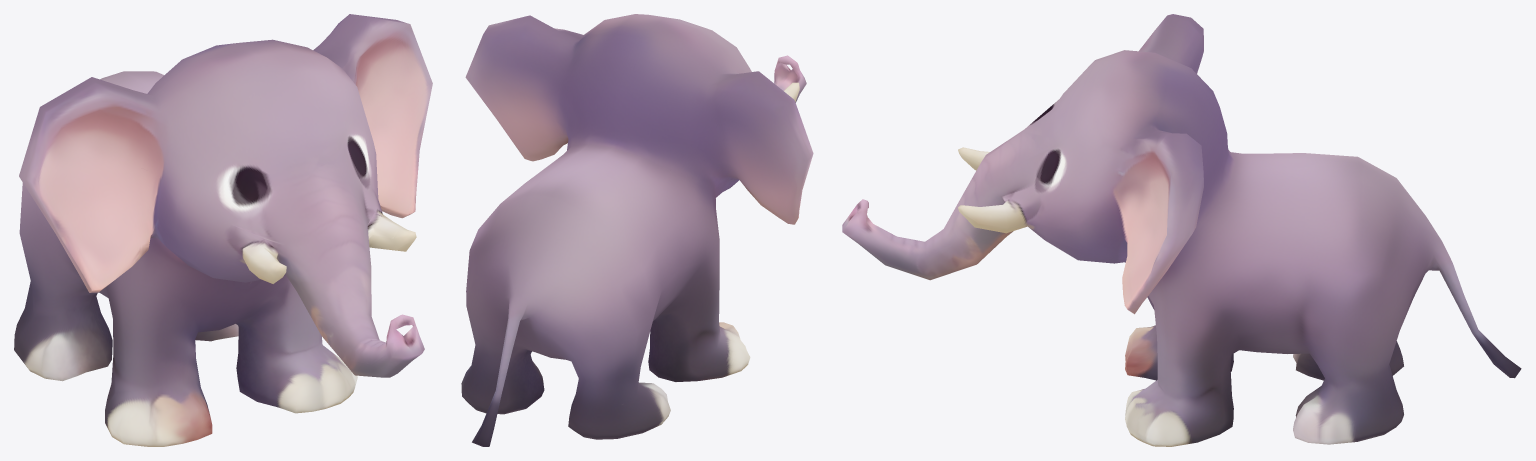
File: base_basic_shaded.fbx
The picture shows the model from 3 angles, left to right: view 1: azimuth 30°, elevation 25°; view 2: azimuth 150°, elevation 25°; view 3: azimuth 270°, elevation 25°; orthographic projection. The views are drawn at different scales.
Parts seen in each view (by area): view 1: model; view 2: model; view 3: model.
Part boxes in pixels (x1,y1,x2,y2): model: [14, 14, 432, 446]; model: [461, 14, 813, 446]; model: [842, 14, 1521, 446].
Bounding box in the file's own units: 110 × 96.15 × 178.
